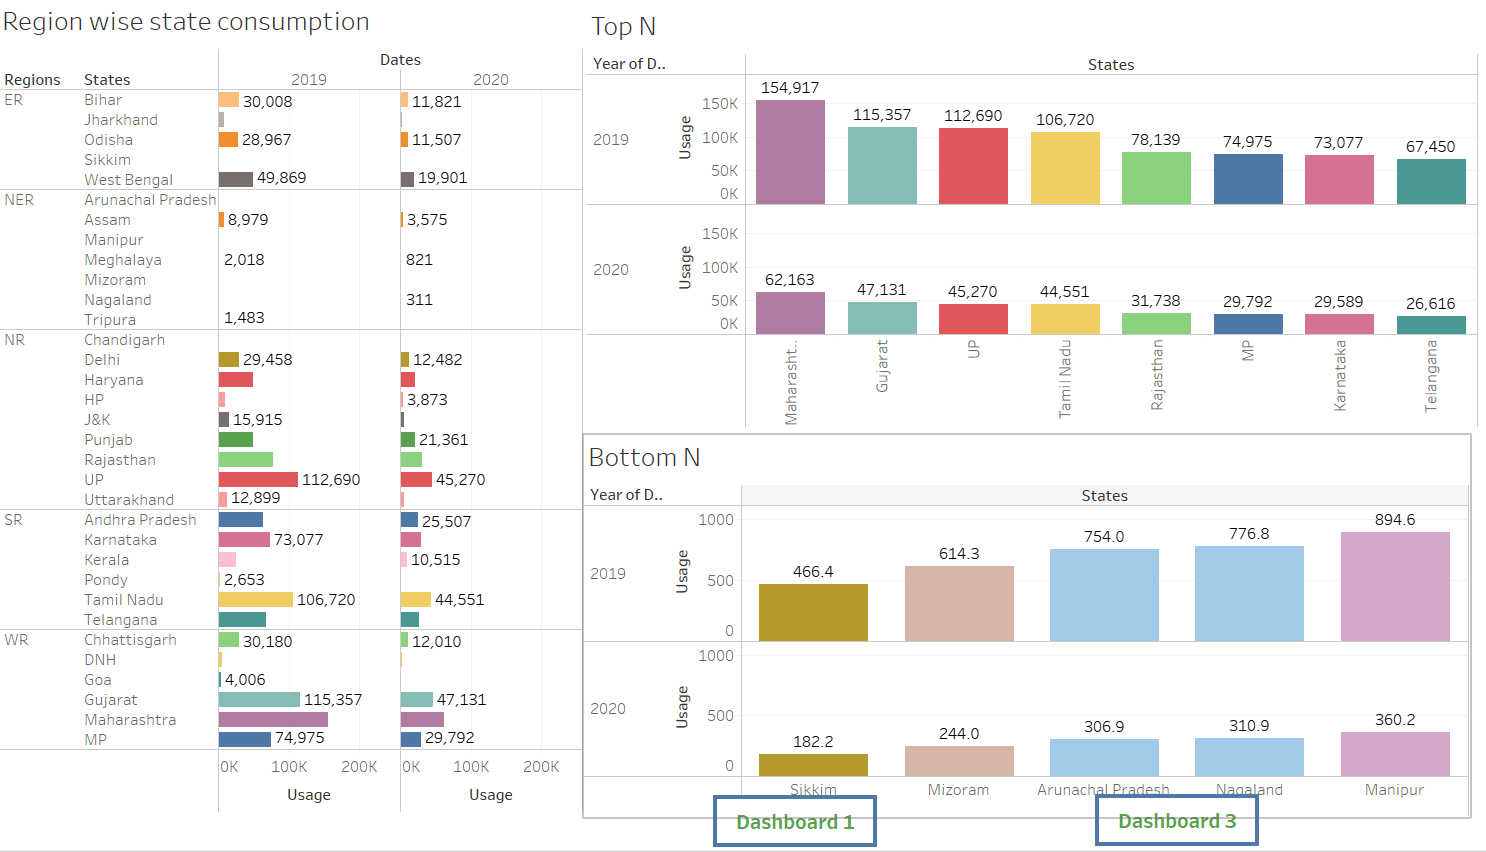

Layout of this report page (visuals, bound fields, positions):
{"tool":"tableau","page":{"name":"Dashboard 2","canvas":[1000,1000],"units":"permille","ordinal":1},"visuals":[{"type":"worksheet","title":"Region wise state consumption","mark":"Automatic","rows":["Regions","States"],"cols":["Dates","Usage"],"box":[0,0,353.1,998.8]},{"type":"worksheet","title":"Top N","mark":"Automatic","rows":["Dates","Usage"],"cols":["States"],"box":[354.9,5.9,536.5,499.4]},{"type":"legend","title":"Region wise state consumption","param":"[federated.0f68l961e6sr3f194c8j3160mdyu].[none:States:nk]","box":[898.8,9.4,96.4,849.6]},{"type":"worksheet","title":"Bottom N","mark":"Automatic","rows":["Dates","Usage"],"cols":["States"],"box":[353.1,512.3,532.9,448.9]},{"type":"parameter","param":"[Parameters].[Parameter 1]","box":[898.8,859,96.4,65.8]},{"type":"parameter","param":"[Parameters].[Parameter 2]","box":[898.8,924.8,96.4,65.8]},{"type":"dashboard-object","box":[660.2,934.2,99,61.1]},{"type":"dashboard-object","box":[430.3,935.4,99,61.1]}]}

Visuals, with their boxes on the dashboard's canvas, which has no fixed pixel size, in thousandths of its width and height (x1, y1, x2, y2). These are canvas units, not pixel positions in the 1486x852 screenshot, which may show the page scaled, cropped or inside an application window:
"Region wise state consumption" worksheet: {"x1": 0, "y1": 0, "x2": 353, "y2": 999}
"Top N" worksheet: {"x1": 355, "y1": 6, "x2": 891, "y2": 505}
"Region wise state consumption" legend: {"x1": 899, "y1": 9, "x2": 995, "y2": 859}
"Bottom N" worksheet: {"x1": 353, "y1": 512, "x2": 886, "y2": 961}
parameter: {"x1": 899, "y1": 859, "x2": 995, "y2": 925}
parameter: {"x1": 899, "y1": 925, "x2": 995, "y2": 991}
dashboard-object: {"x1": 660, "y1": 934, "x2": 759, "y2": 995}
dashboard-object: {"x1": 430, "y1": 935, "x2": 529, "y2": 996}
